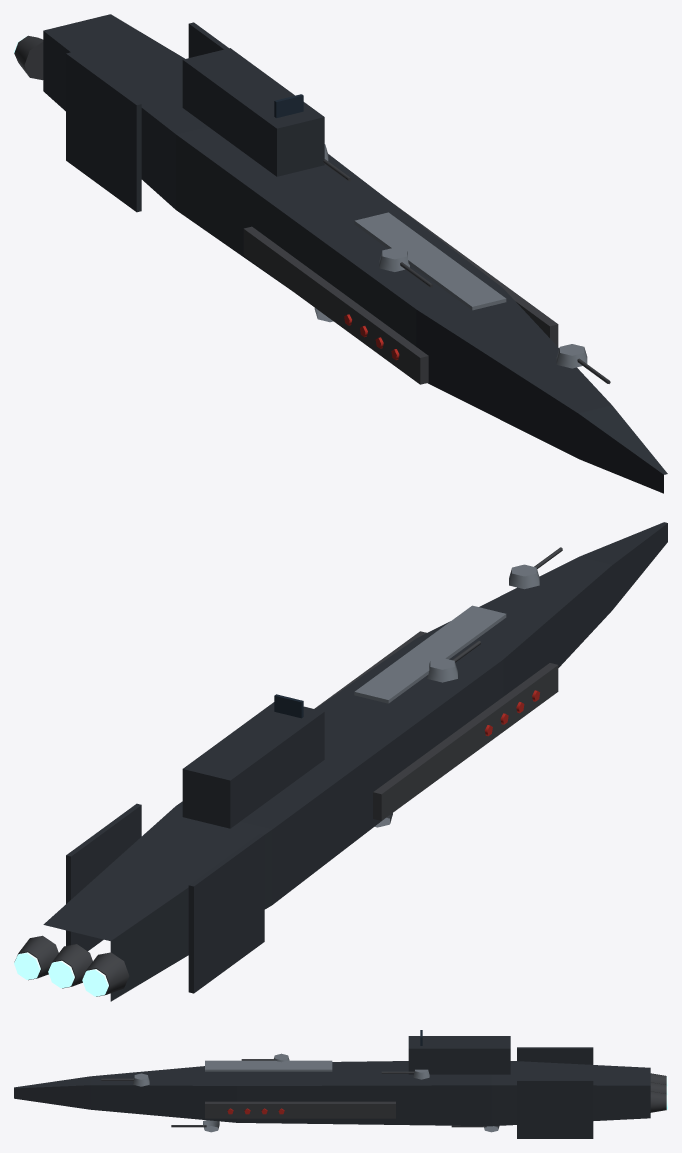
File: space_ship_destroyer_mk4.glb
3 renders of one model, top to bottom at view 1: azimuth 30°, elevation 25°; view 2: azimuth 150°, elevation 25°; view 3: azimuth 270°, elevation 25°, orthographic. The views are drawn at different scales.
Parts seen in each view (by area): view 1: body, engine_0, turret_0, turret_2; view 2: body, engine_0, engine_2, engine_1, turret_0, turret_2; view 3: body, engine_2, turret_0, turret_1, turret_4.
Boxes of the visible parts, box(x1,y1,x2,y2) form: body: box(43, 14, 667, 493); engine_0: box(14, 35, 43, 80); turret_0: box(556, 344, 610, 383); turret_2: box(379, 247, 433, 287); body: box(43, 522, 667, 1001); engine_0: box(82, 952, 129, 996); engine_2: box(14, 935, 58, 980); engine_1: box(48, 944, 92, 988); turret_0: box(509, 547, 562, 589); turret_2: box(427, 640, 480, 682); body: box(14, 1030, 650, 1138); engine_2: box(650, 1091, 667, 1112); turret_0: box(101, 1073, 149, 1086); turret_1: box(171, 1120, 219, 1132); turret_4: box(381, 1069, 429, 1079).
Size of what is drawn, in the model's own units: 8.4 by 9.24 by 61.46.
